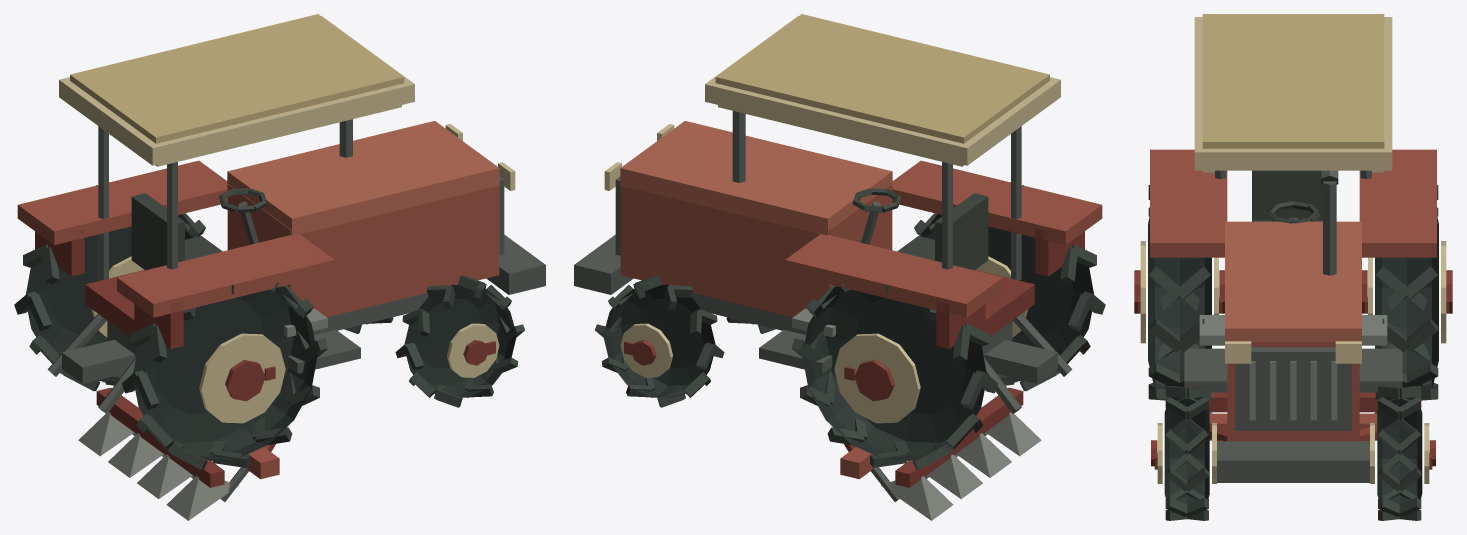
Rendered from riverside-tractor-kit.glb.
The picture shows the model from 3 angles, left to right: view 1: azimuth 30°, elevation 25°; view 2: azimuth 150°, elevation 25°; view 3: azimuth 270°, elevation 25°; orthographic projection. The views are drawn at different scales.
Parts seen in each view (by area): view 1: GEO-tractor-body, GEO-tractor-wheel-RR, GEO-tractor-wheel-FR, GEO-tractor-wheel-RL, GEO-tractor-plough; view 2: GEO-tractor-body, GEO-tractor-wheel-RL, GEO-tractor-wheel-FL, GEO-tractor-wheel-RR, GEO-tractor-plough; view 3: GEO-tractor-body, GEO-tractor-wheel-RL, GEO-tractor-wheel-RR, GEO-tractor-wheel-FL, GEO-tractor-wheel-FR, GEO-tractor-plough.
Part boxes in pixels (x1,y1,x2,y2): GEO-tractor-body: (17,14,545,413); GEO-tractor-wheel-RR: (121,282,328,469); GEO-tractor-wheel-FR: (395,275,524,407); GEO-tractor-wheel-RL: (14,185,205,391); GEO-tractor-plough: (78,387,279,520); GEO-tractor-body: (574,14,1102,413); GEO-tractor-wheel-RL: (791,282,998,469); GEO-tractor-wheel-FL: (595,275,724,407); GEO-tractor-wheel-RR: (914,185,1105,391); GEO-tractor-plough: (840,387,1041,520); GEO-tractor-body: (1150,14,1436,482); GEO-tractor-wheel-RL: (1362,185,1452,400); GEO-tractor-wheel-RR: (1134,185,1224,400); GEO-tractor-wheel-FL: (1363,385,1435,520); GEO-tractor-wheel-FR: (1151,385,1223,520); GEO-tractor-plough: (1208,392,1378,441).
Size of the model in its own units: 3.67 by 3.04 by 2.19.
